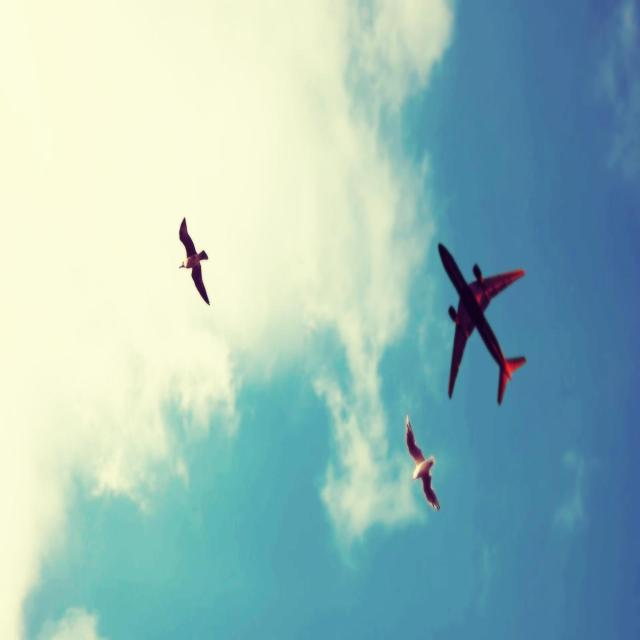airplane: (438, 241, 526, 405)
